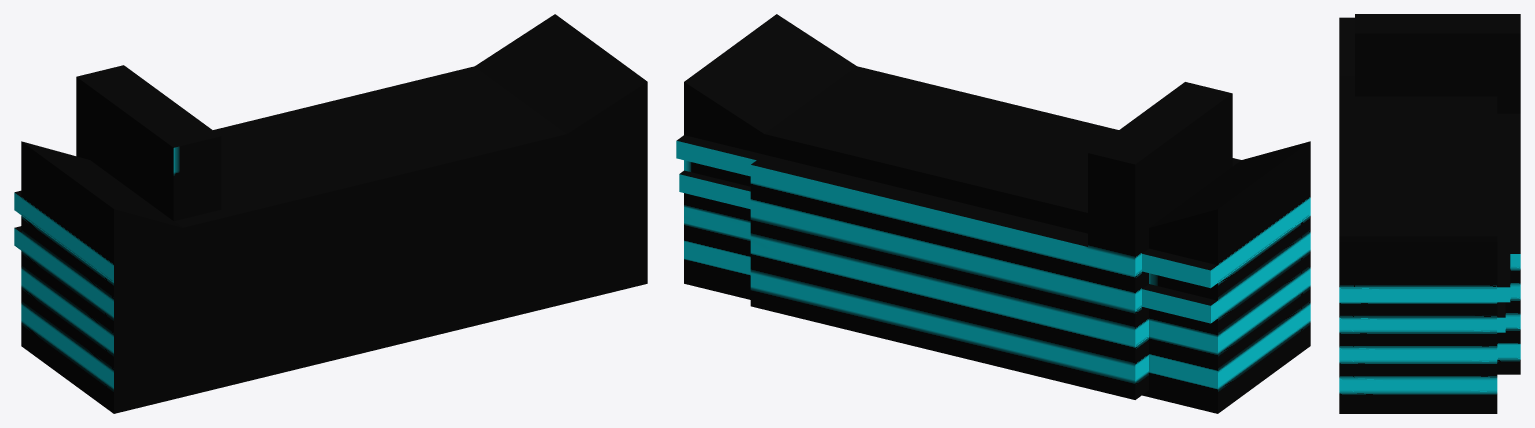
The model's file is hospital 2 .fbx.
3 renders of one model, left to right at view 1: azimuth 30°, elevation 25°; view 2: azimuth 150°, elevation 25°; view 3: azimuth 270°, elevation 25°, orthographic. The views are drawn at different scales.
Visible parts, largest first — view 1: Cube; view 2: Cube; view 3: Cube.
Boxes of the visible parts, left/top/right/bottom form: Cube: left=14, top=14, right=647, bottom=413; Cube: left=676, top=14, right=1310, bottom=413; Cube: left=1339, top=14, right=1520, bottom=413.
Size of the model in its own units: 6808 by 2958 by 2349.
